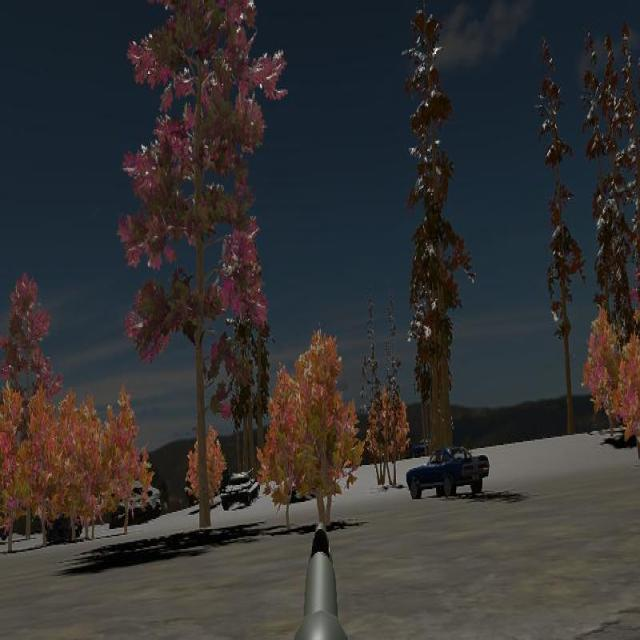Tank: (221, 465, 259, 509)
car: (406, 445, 490, 500)
